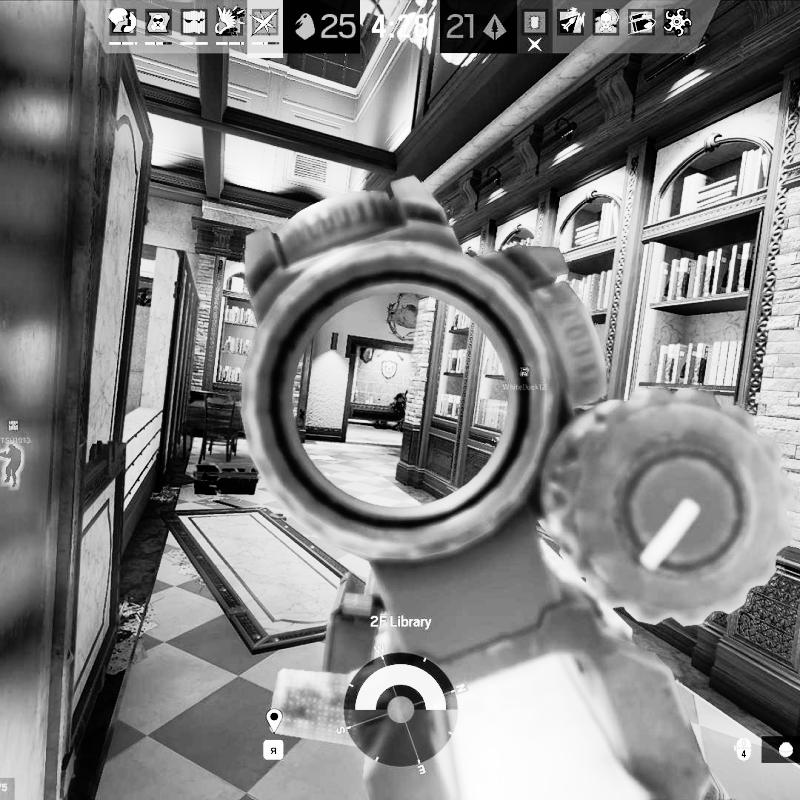Character: (390, 388, 409, 434)
Friend_label: (503, 362, 549, 393), (2, 415, 32, 447)
Head: (405, 389, 408, 397)
